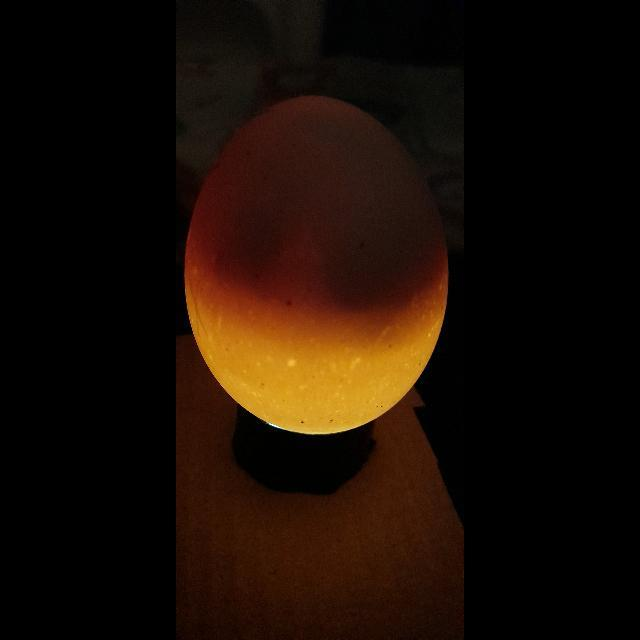Infertile: (192, 96, 456, 440)
